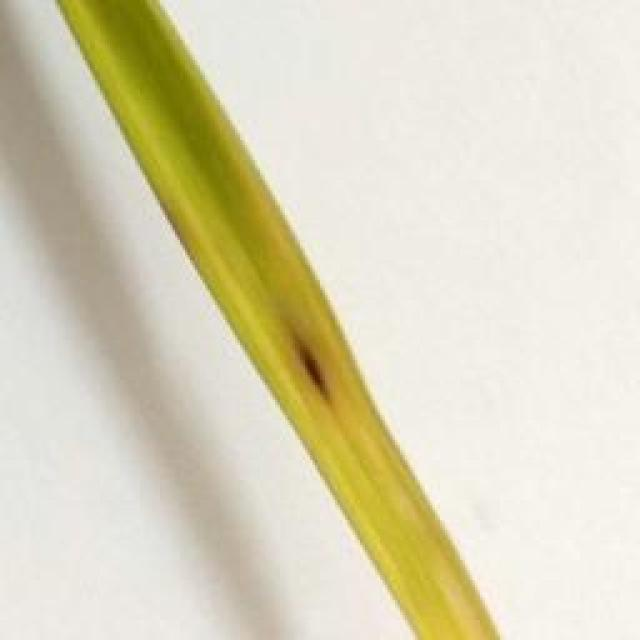Brown_Spot: (280, 311, 345, 436)
